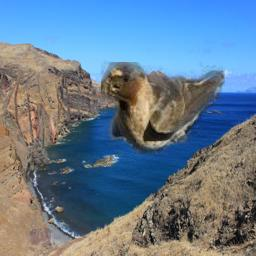Swallow: (101, 62, 225, 154)
